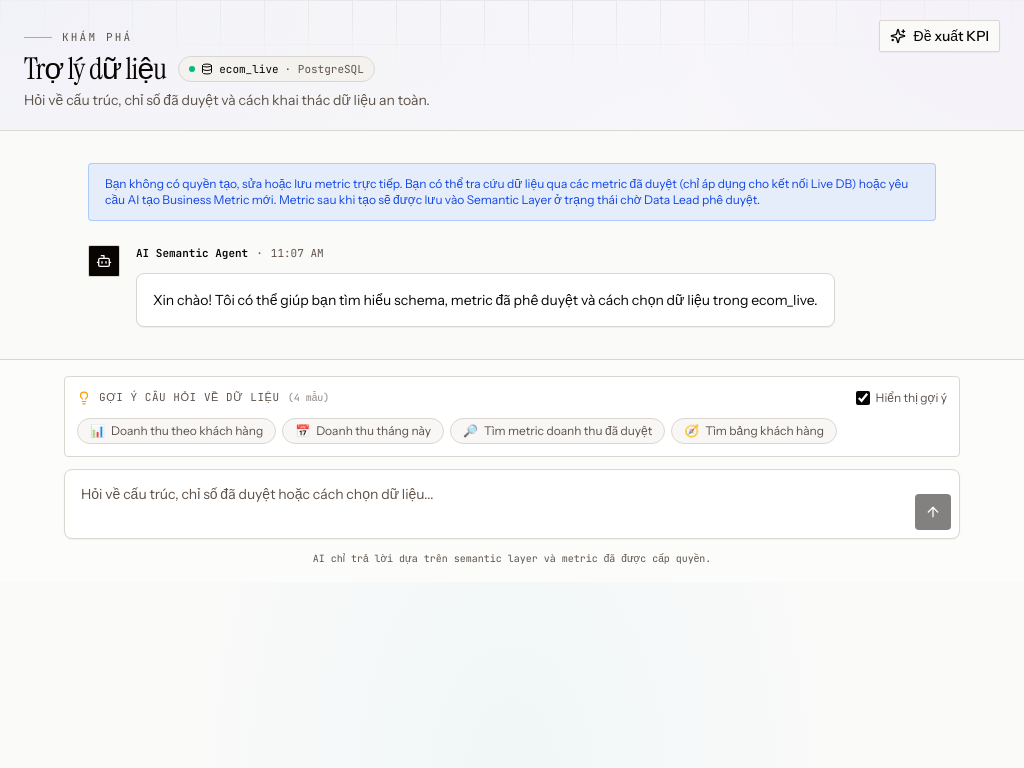
Test case: AIStudioView › calculates an existing metric and preserves its proposal (conflict: false)
In the text box with placeholder "Hỏi về cấu trúc, chỉ số đã duyệt hoặc cách chọn dữ liệu...": (490, 504) top-left (73, 478), bottom-right (907, 530), type "AOV"
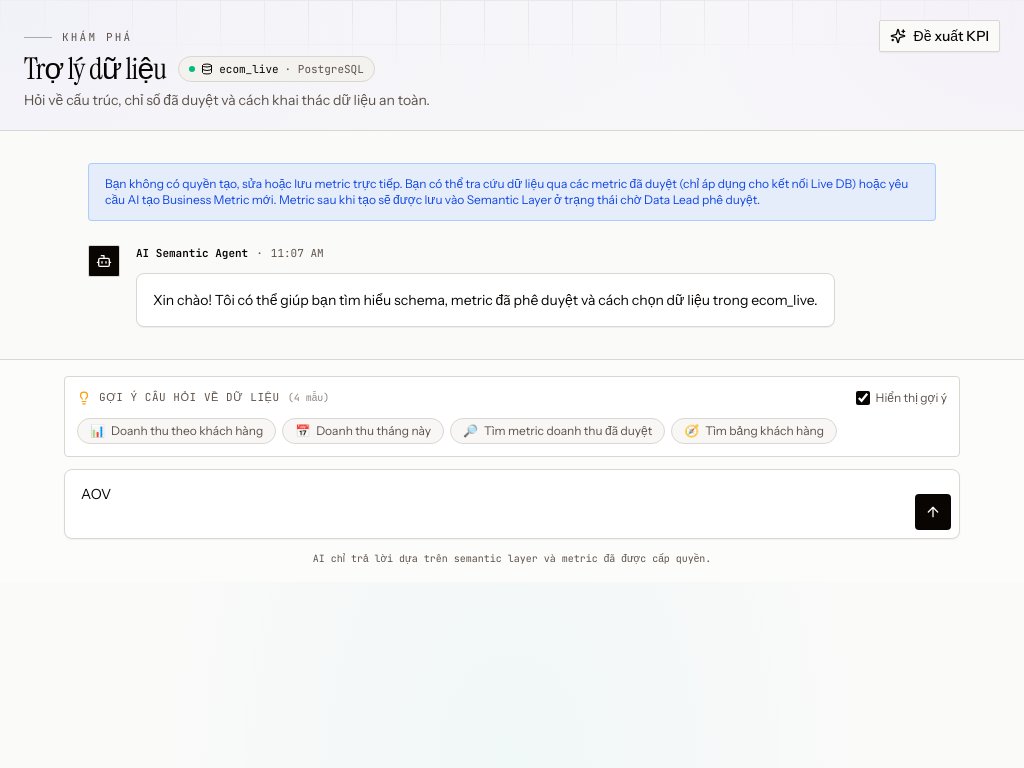
Click the button named "Gửi tin nhắn": (933, 512) top-left (915, 494), bottom-right (951, 530)
(page scrolled)
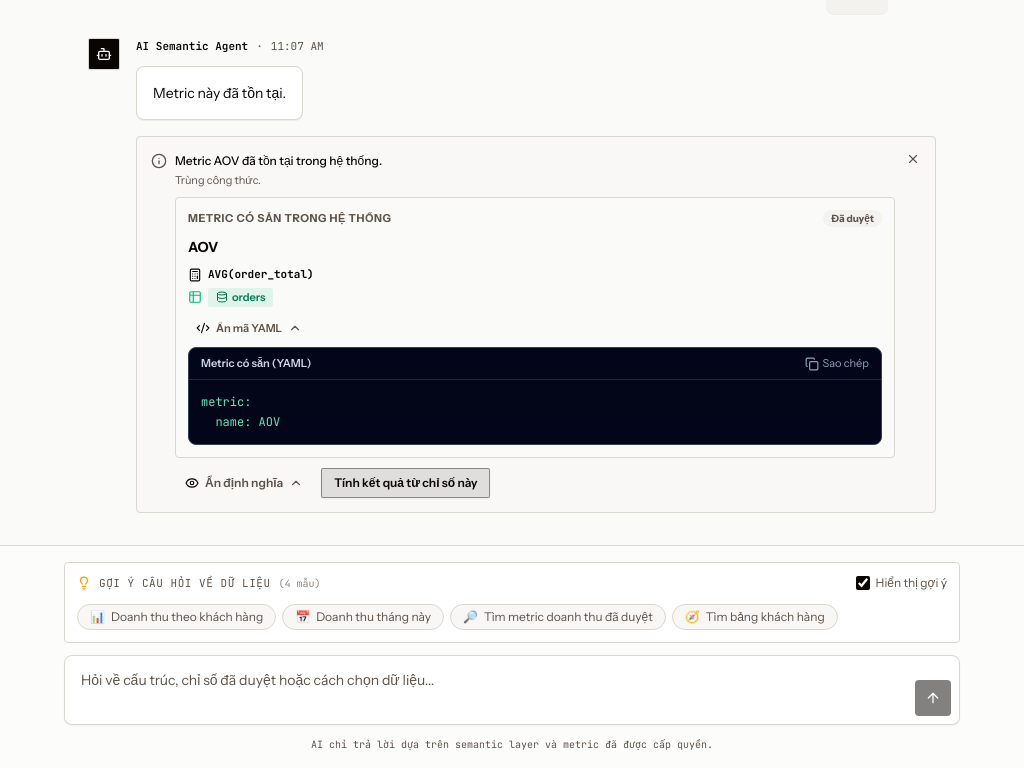
Now the text "Metric AOV đã tồn tại trong hệ thống." is shown, box top-left (175, 151), bottom-right (382, 170)
Now the text "Metric có sẵn (YAML)" is shown, box top-left (201, 356), bottom-right (311, 371)
Click the button "Tính kết quả từ chỉ số này": (406, 483) top-left (321, 468), bottom-right (490, 498)
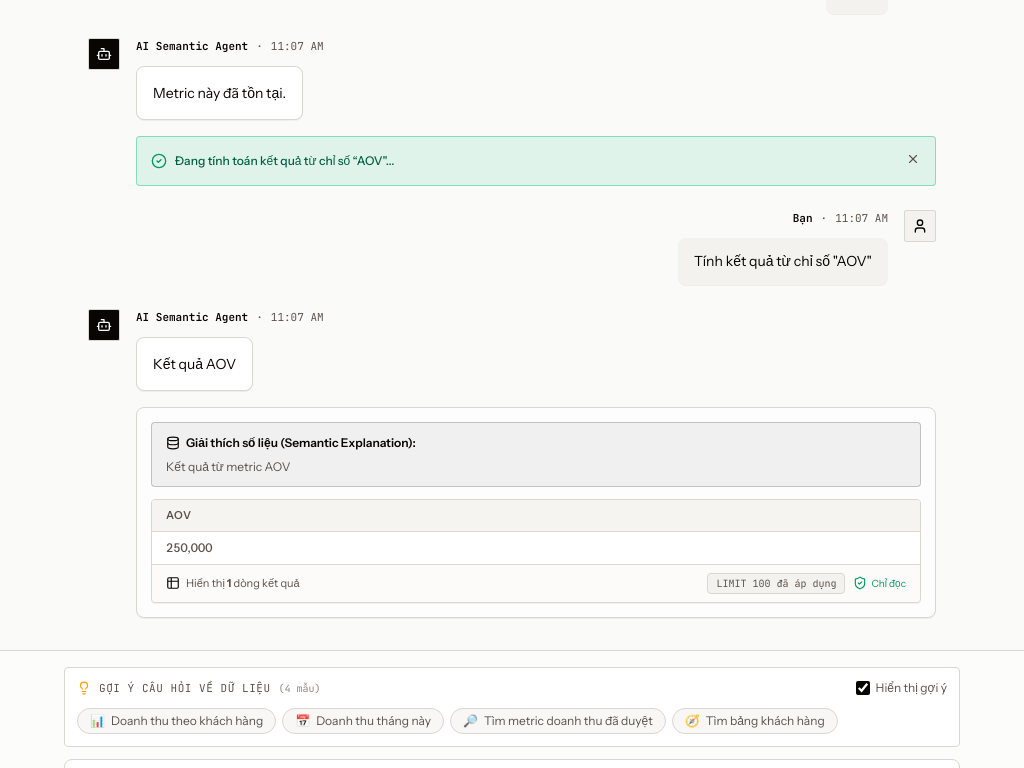
Now the text "250,000" is shown, box top-left (152, 531), bottom-right (920, 564)
